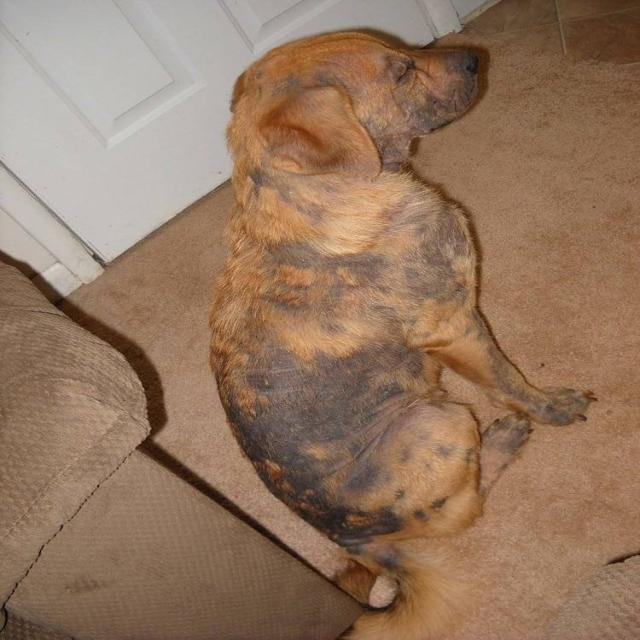mange: (232, 337, 479, 518), (264, 160, 482, 338)
